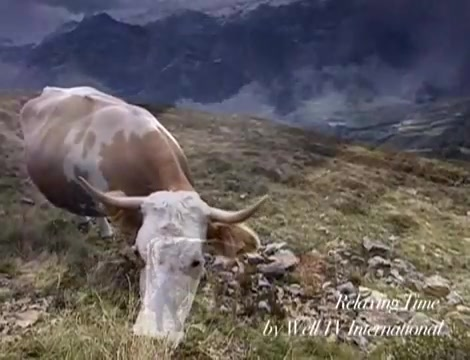cow: (18, 83, 269, 354)
